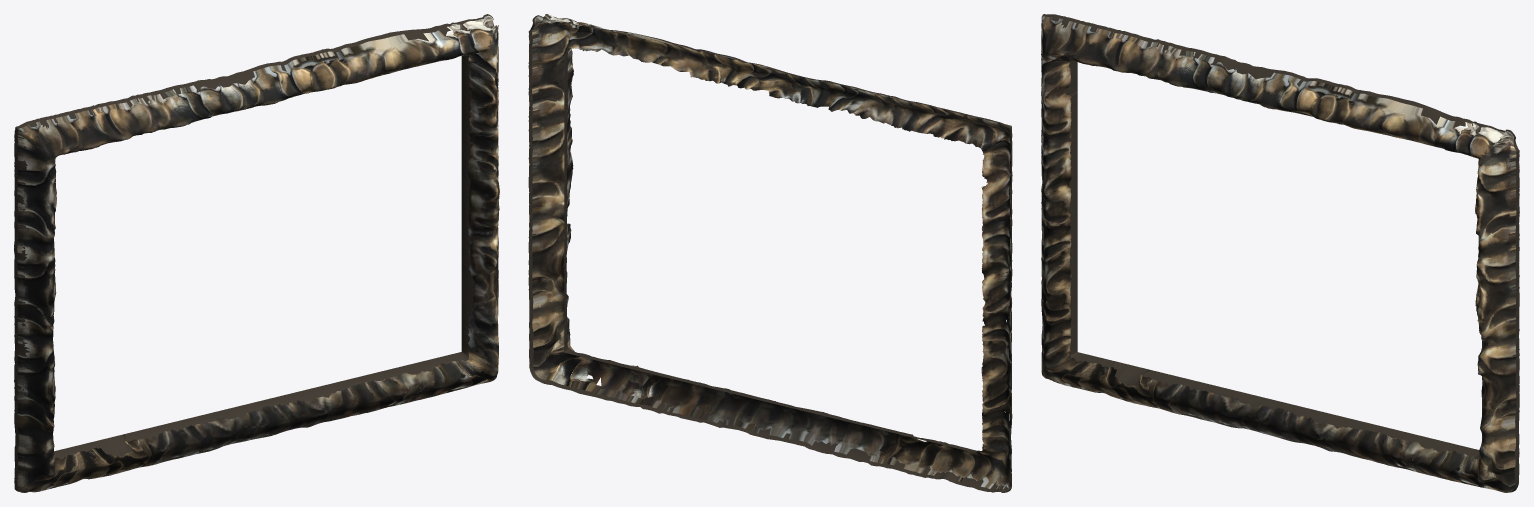
Rendered from ifac-bronze-wave.glb.
The picture shows the model from 3 angles, left to right: view 1: azimuth 30°, elevation 25°; view 2: azimuth 150°, elevation 25°; view 3: azimuth 330°, elevation 25°; orthographic projection.
Parts seen in each view (by area): view 1: frame5; view 2: frame5; view 3: frame5.
Part boxes in pixels (x1=…): frame5: x1=14, y1=14, x2=499, y2=492; frame5: x1=528, y1=14, x2=1012, y2=492; frame5: x1=1041, y1=14, x2=1519, y2=492.
Size of the model in its own units: 0.7607 by 0.5635 by 0.0611.
Materials: 4 (3 with a texture image).
